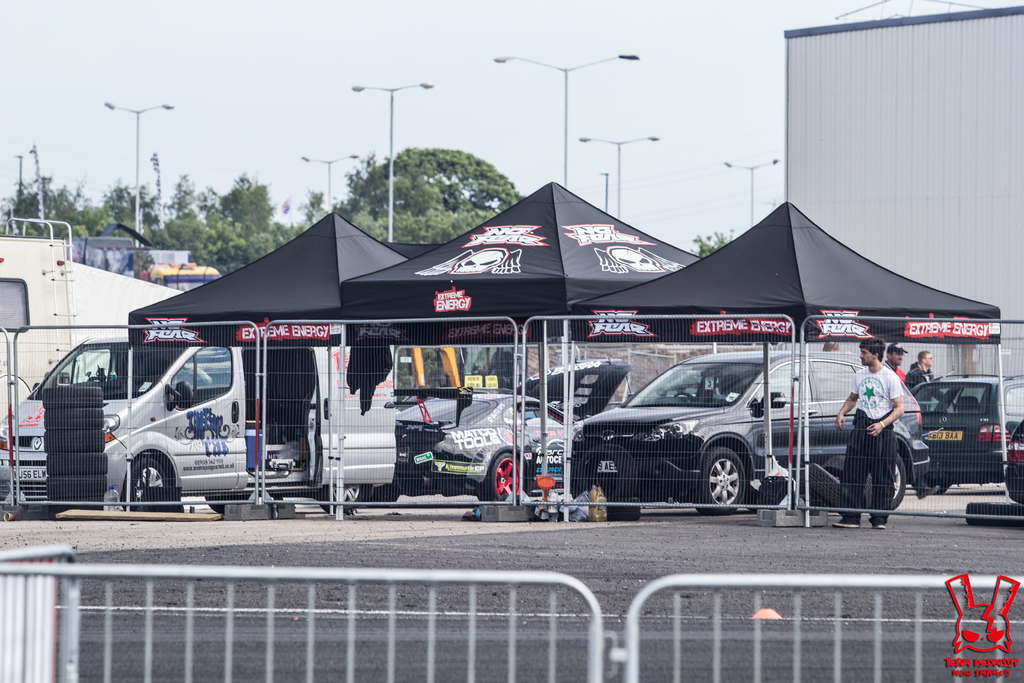cars: (575, 347, 920, 509), (394, 364, 629, 492), (930, 358, 1007, 480), (1006, 421, 1023, 505)
